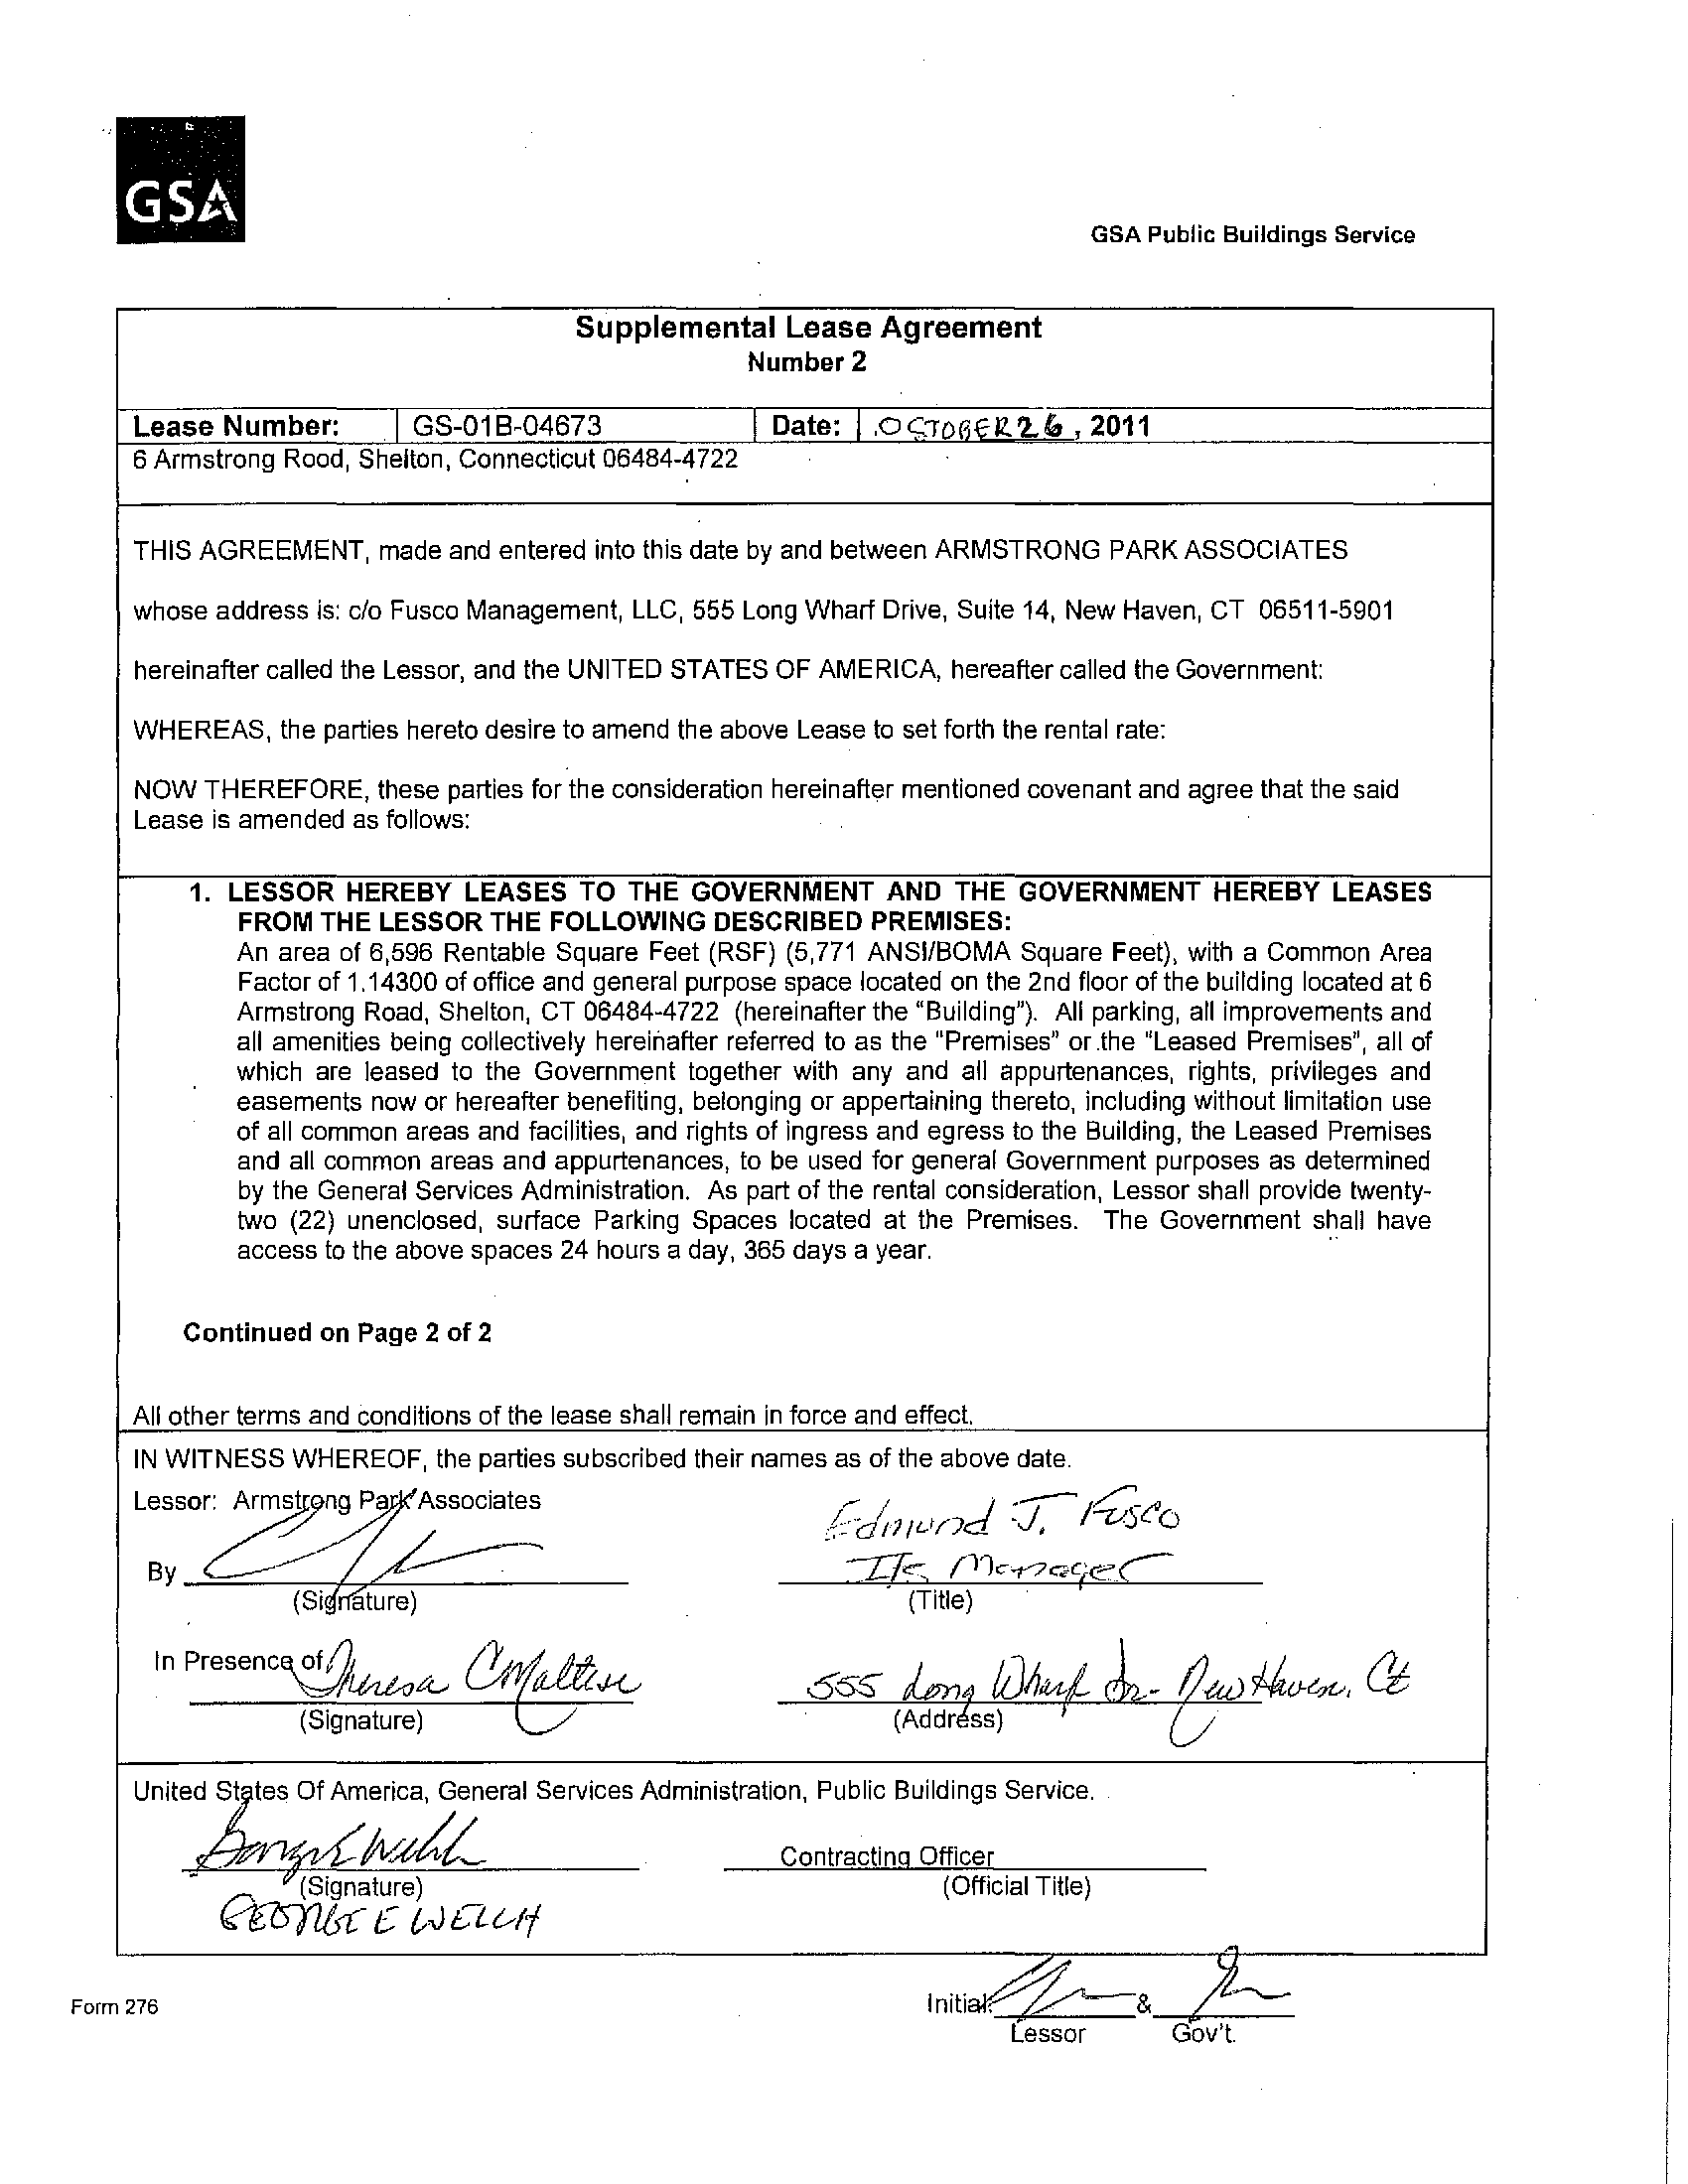handwritten: (800, 1627, 1431, 1700), (803, 1478, 1236, 1578), (271, 1636, 711, 1714), (174, 1801, 530, 1874), (186, 1512, 548, 1578), (183, 1884, 557, 1939), (988, 1939, 1137, 2016), (869, 399, 1069, 452), (1179, 1955, 1337, 2021)
